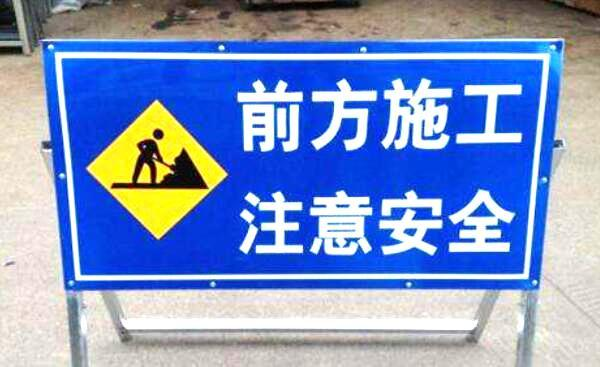sign: (45, 40, 554, 289)
